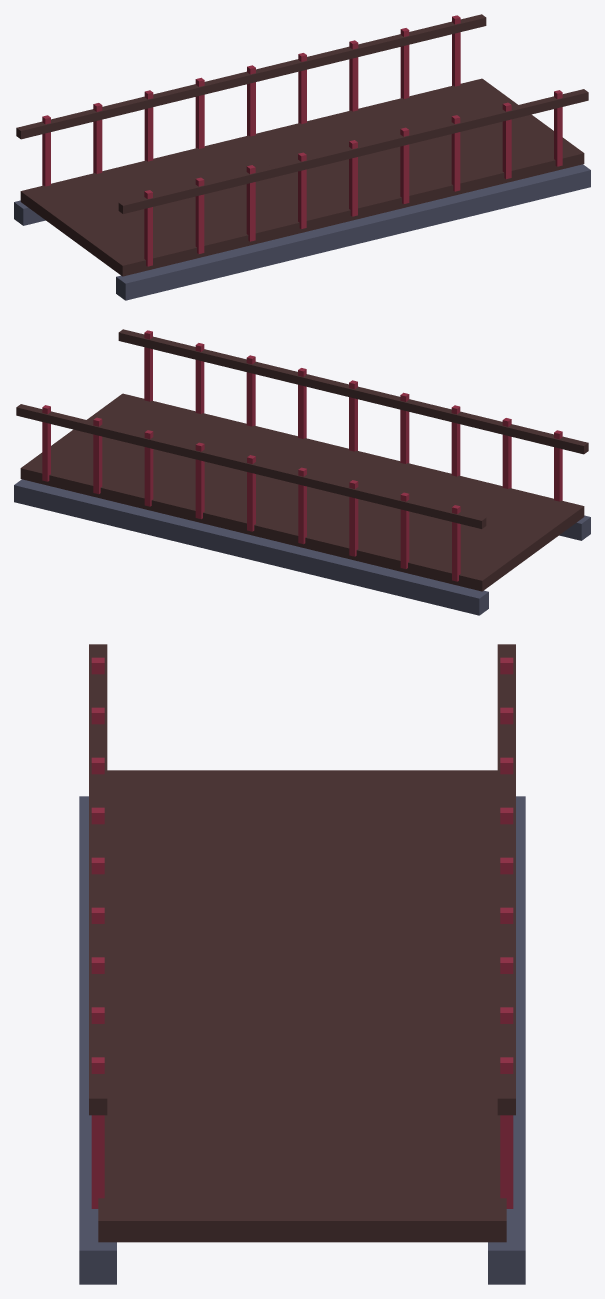
The model's file is bridge.obj.
3 renders of one model, top to bottom at view 1: azimuth 30°, elevation 25°; view 2: azimuth 150°, elevation 25°; view 3: azimuth 270°, elevation 25°, orthographic. The views are drawn at different scales.
Visible parts, largest first — view 1: KAGEBOUND_environment; view 2: KAGEBOUND_environment; view 3: KAGEBOUND_environment.
Part boxes in pixels (bbox=[...]): KAGEBOUND_environment: bbox=[14, 14, 590, 300]; KAGEBOUND_environment: bbox=[14, 329, 590, 615]; KAGEBOUND_environment: bbox=[79, 644, 525, 1284].
Bounding box in the file's own units: 10 × 2.03 × 4.15.
